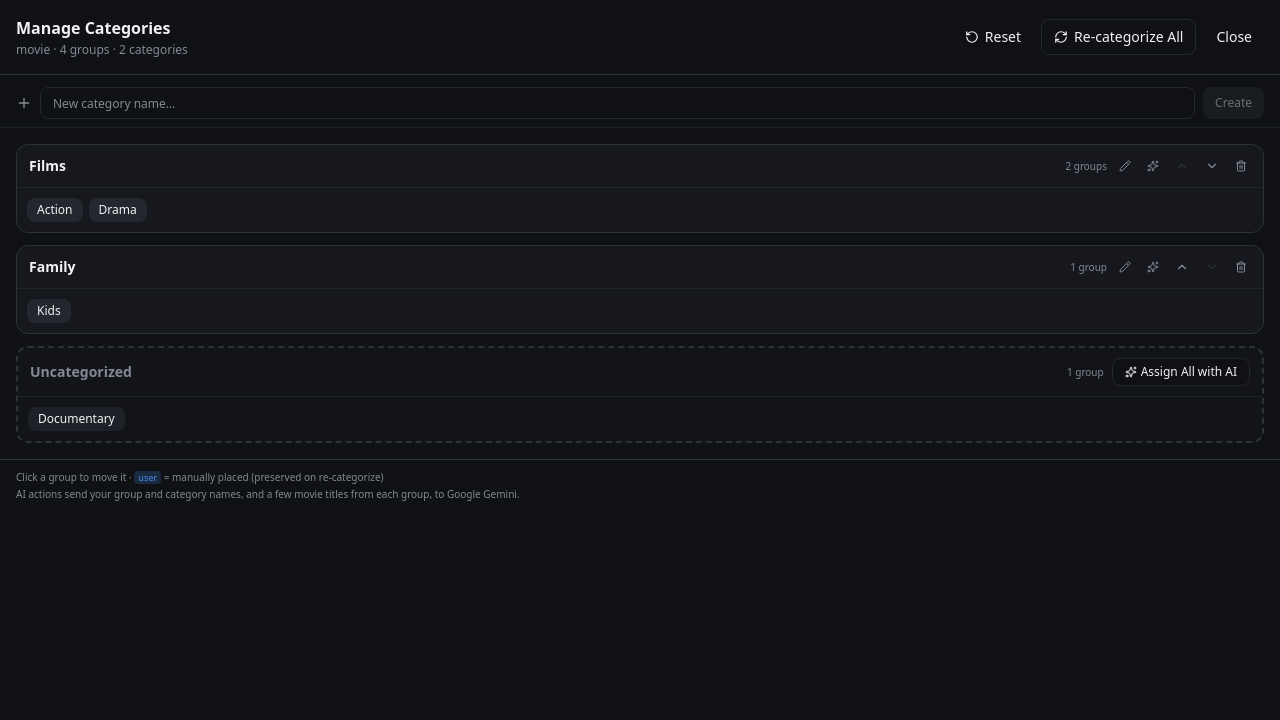
Test: CategoryManager categories › creates an empty category once, from the button or Enter
Type "  Classics " into the field with placeholder "New category name…" at [618, 103], box top-left (40, 87), bottom-right (1195, 119)
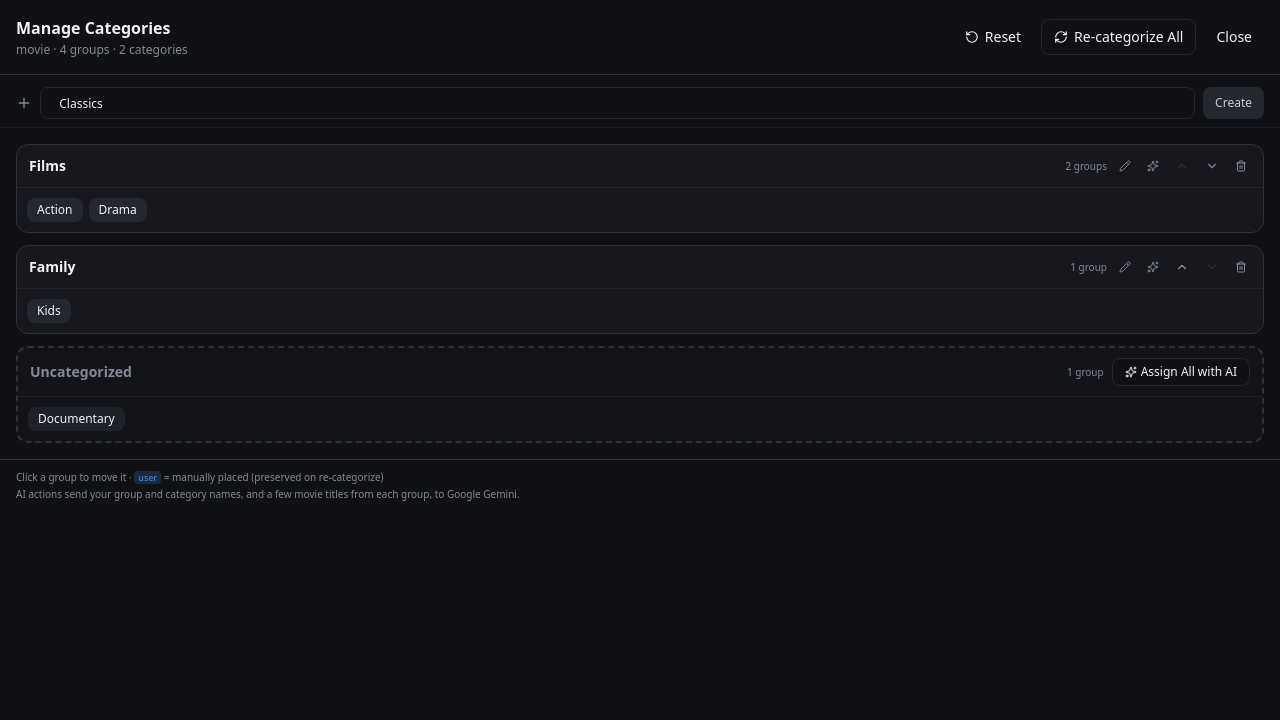
Click the button "Create" at [1234, 103], box top-left (1203, 87), bottom-right (1264, 119)
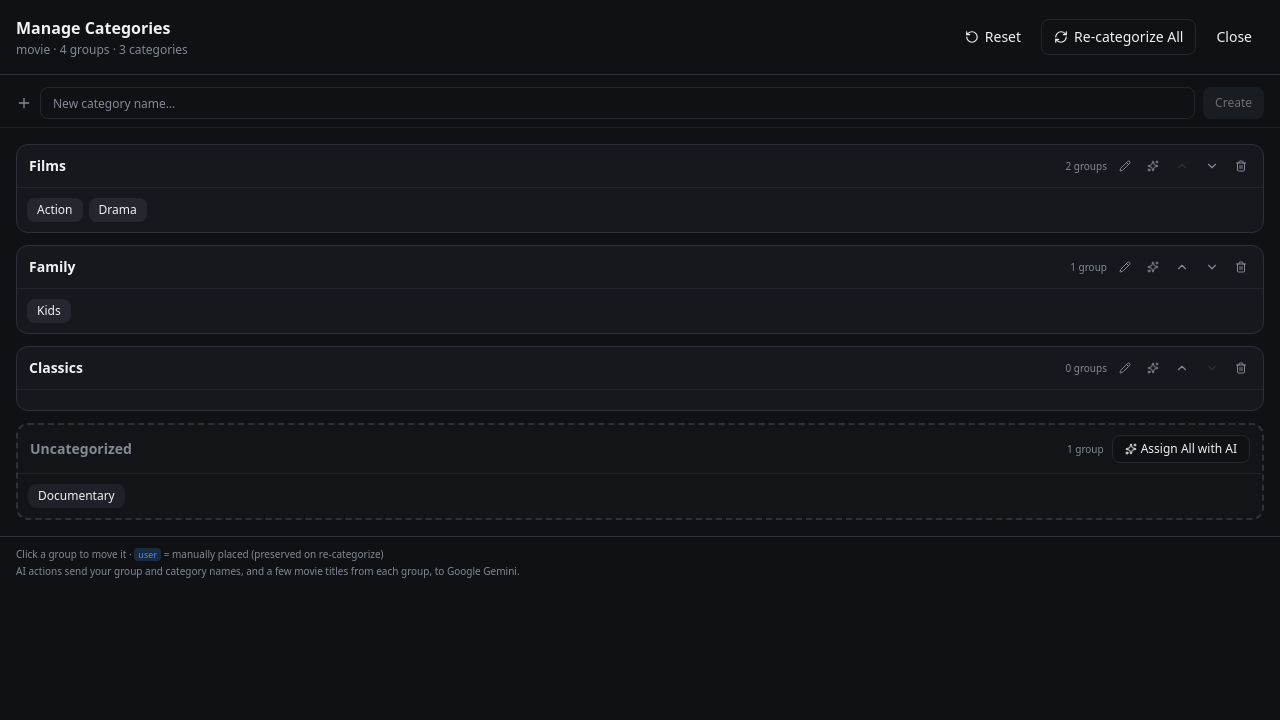
Now the element "Classics" is shown, box top-left (16, 346), bottom-right (1264, 411)
Now the field with placeholder "New category name…" is empty
Type "Classics" into the field with placeholder "New category name…" at [618, 103], box top-left (40, 87), bottom-right (1195, 119)
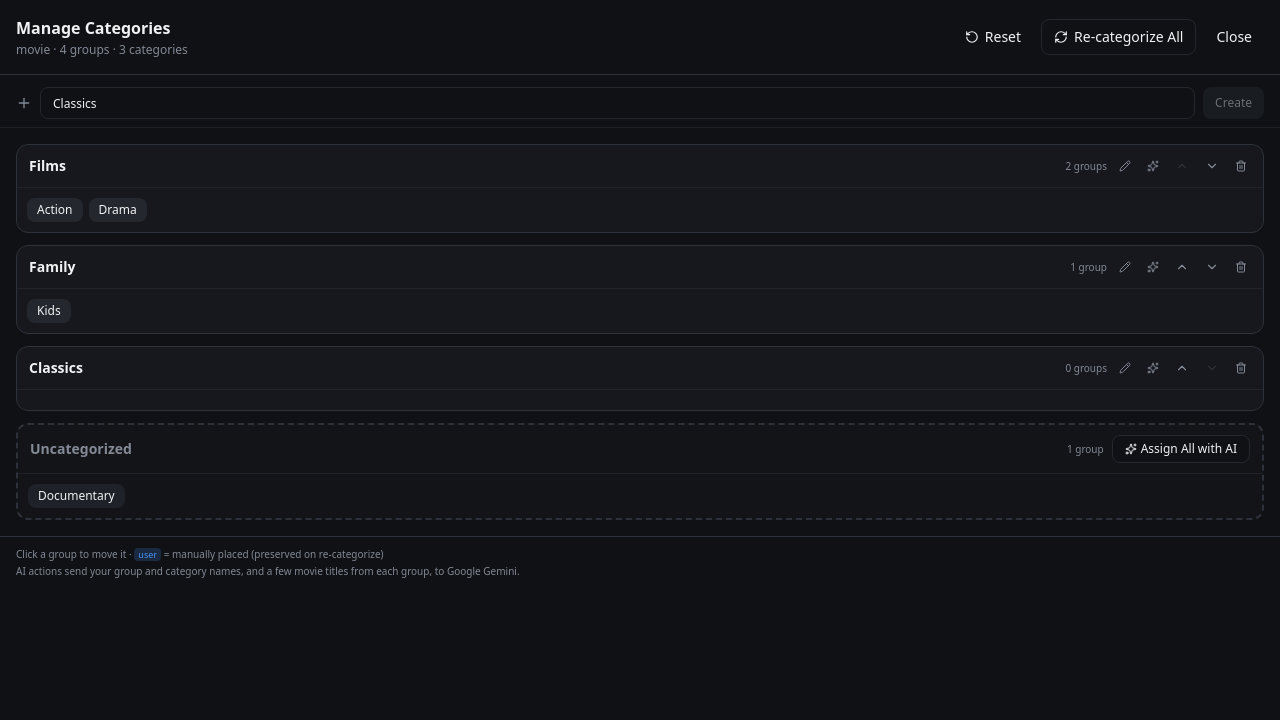
Now the button "Create" is disabled, box top-left (1203, 87), bottom-right (1264, 119)
Press Enter in the field with placeholder "New category name…", box top-left (40, 87), bottom-right (1195, 119)
Now the number of elements "Classics" is 1, box top-left (16, 346), bottom-right (1264, 411)
Replace the text in the field with placeholder "New category name…" with "Shorts" at [618, 103], box top-left (40, 87), bottom-right (1195, 119)
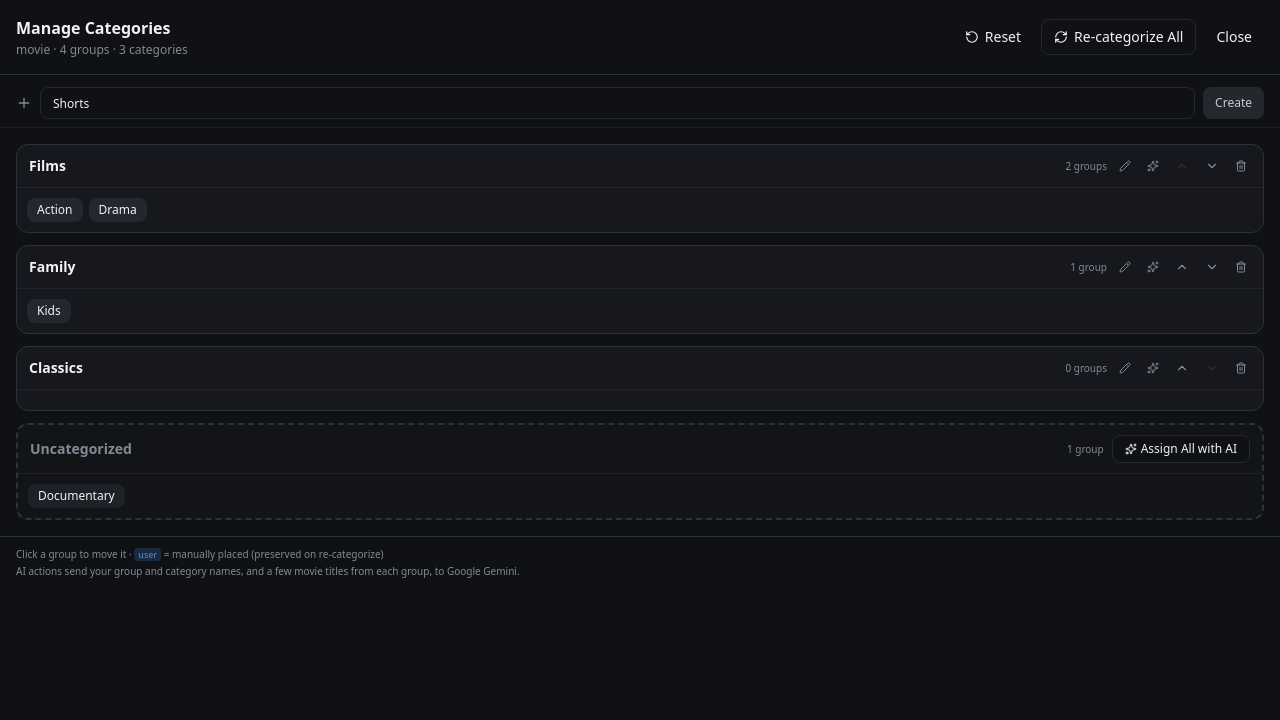
Press Enter in the field with placeholder "New category name…", box top-left (40, 87), bottom-right (1195, 119)
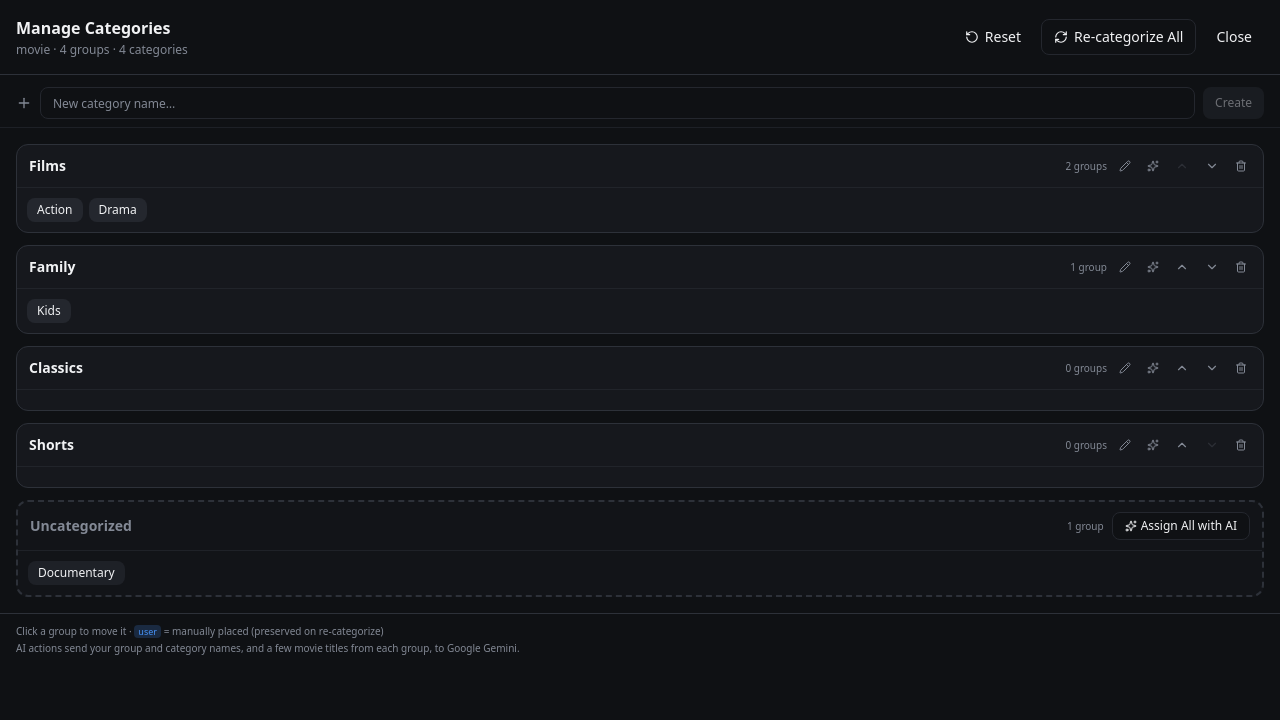
Now the element "Shorts" is shown, box top-left (16, 423), bottom-right (1264, 488)
Now the text "movie · 4 groups · 4 categories" is shown, box top-left (16, 42), bottom-right (188, 58)
